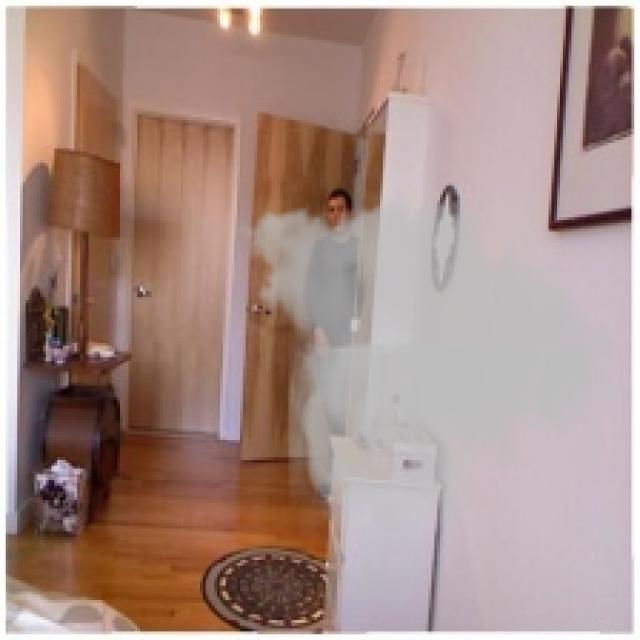Smoke: (228, 182, 628, 554)
